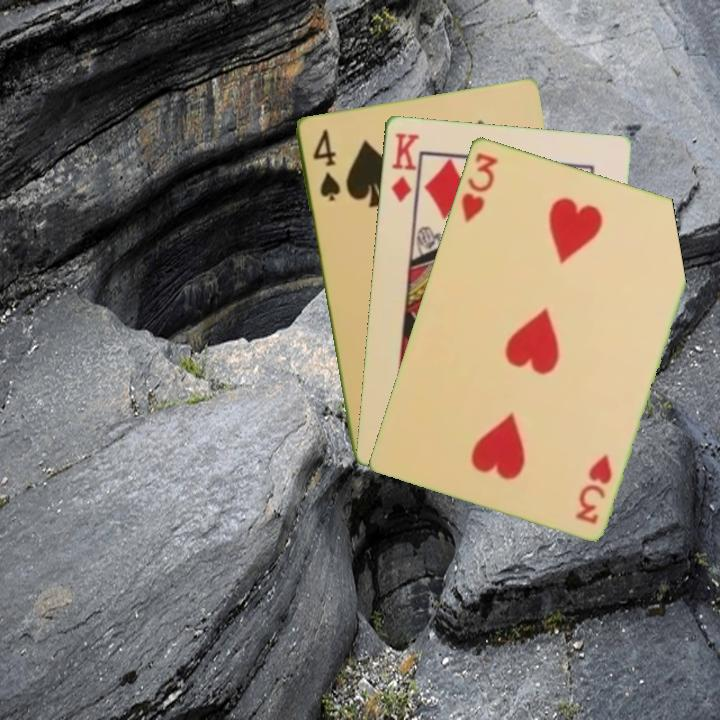3h: (457, 148, 501, 226), (571, 450, 615, 526)
4s: (309, 125, 343, 204)
Kd: (387, 128, 422, 204)
